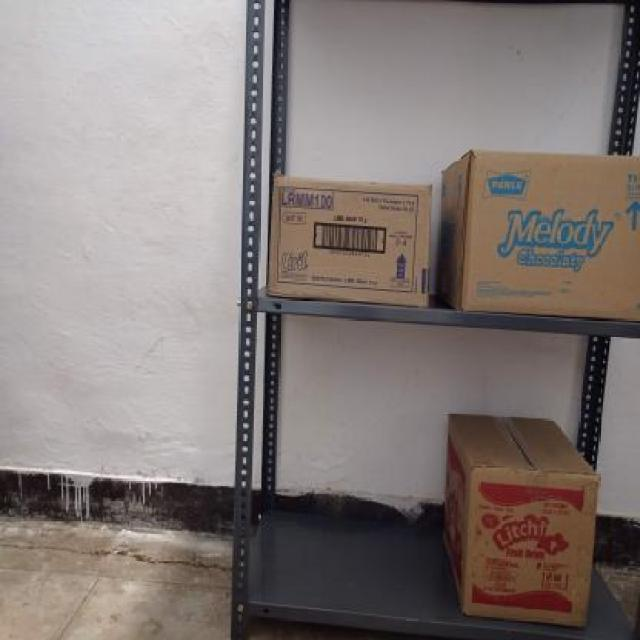box: (458, 149, 640, 323), (271, 172, 431, 306), (462, 467, 593, 630)
